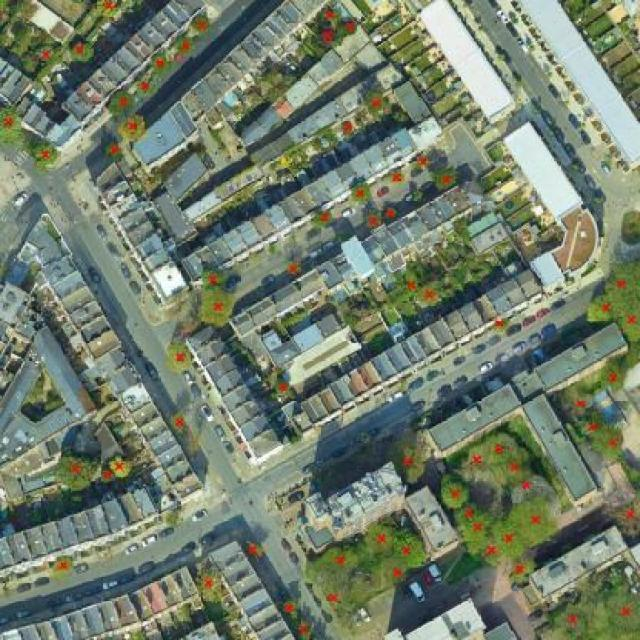tree: (503, 490, 566, 552), (191, 282, 251, 336), (378, 427, 431, 487), (583, 584, 638, 640), (455, 499, 497, 570), (505, 475, 578, 514), (383, 525, 443, 572), (303, 537, 365, 581), (49, 446, 102, 497), (543, 594, 600, 640), (489, 506, 531, 565), (603, 482, 640, 548), (316, 573, 367, 619), (477, 451, 549, 483), (362, 552, 422, 590), (598, 254, 640, 305), (554, 376, 605, 416), (434, 469, 478, 514), (362, 511, 404, 558), (0, 98, 32, 158), (499, 552, 545, 590), (188, 563, 229, 605), (24, 133, 64, 176), (23, 38, 68, 76), (486, 424, 525, 467), (599, 418, 633, 467), (592, 355, 631, 397), (112, 111, 156, 147), (581, 289, 616, 334), (611, 292, 640, 346), (100, 86, 145, 119), (56, 35, 102, 67), (457, 438, 492, 480), (162, 339, 200, 376), (158, 407, 198, 441), (427, 164, 465, 199), (0, 0, 42, 31), (84, 0, 131, 26), (194, 260, 235, 289), (129, 72, 169, 101), (143, 51, 180, 82), (305, 201, 340, 233), (273, 592, 309, 623), (44, 553, 81, 582), (573, 408, 605, 441), (412, 278, 449, 305), (239, 534, 270, 566), (346, 176, 375, 210), (107, 449, 135, 483), (451, 497, 487, 523), (268, 375, 299, 401), (190, 11, 219, 38), (396, 269, 425, 295), (486, 311, 515, 337), (169, 34, 200, 58), (100, 138, 129, 162), (280, 257, 309, 281), (384, 162, 408, 191), (96, 465, 122, 490), (359, 210, 387, 233), (290, 617, 318, 640), (379, 203, 403, 225), (409, 150, 432, 170)
